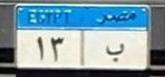1: (35, 35, 46, 65)
3: (49, 35, 66, 63)
baa: (103, 41, 126, 64)
